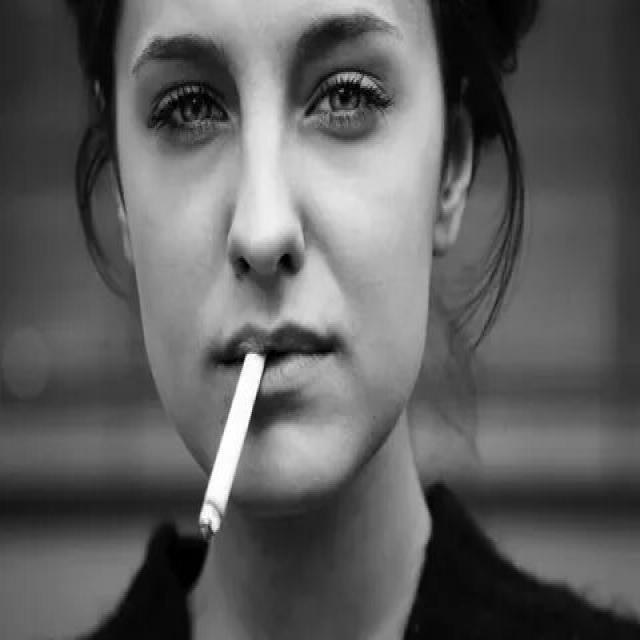cigarette: (195, 350, 273, 540)
